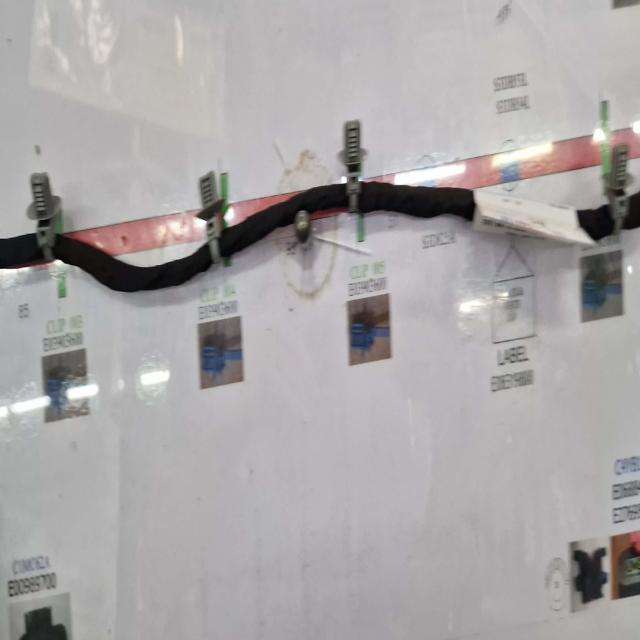Clip: (26, 173, 62, 260), (199, 171, 229, 263), (602, 133, 629, 233), (339, 119, 366, 214)
Info: (472, 190, 594, 246)
MHEV_N11_Cable: (359, 181, 614, 246), (219, 184, 349, 257), (52, 233, 212, 292), (0, 233, 45, 268), (622, 192, 640, 230)
